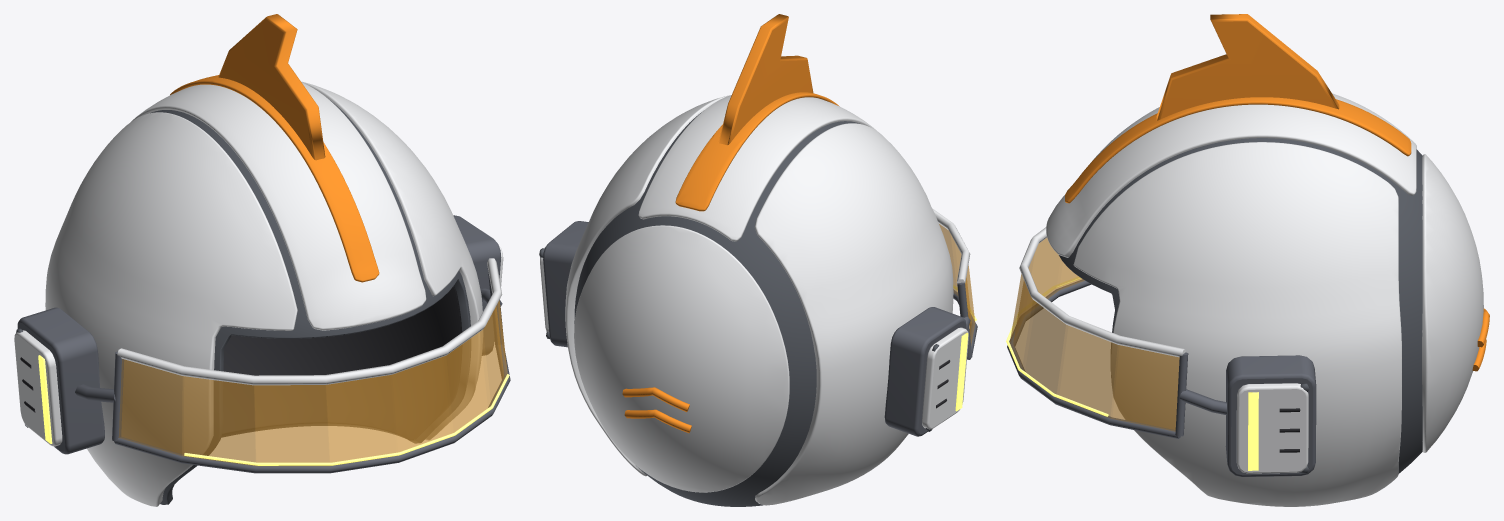
File: mech.glb
3 views of the same model, side by side, from view 1: azimuth 30°, elevation 25°; view 2: azimuth 150°, elevation 25°; view 3: azimuth 270°, elevation 25° (orthographic). The views are drawn at different scales.
Visible parts, largest first — view 1: mech_body, glass_mech_visor, glow_mech_orange, pulse_mech_strip_L; view 2: mech_body, glass_mech_visor, pulse_mech_strip_L; view 3: mech_body, glass_mech_visor, pulse_mech_strip_R, glow_mech_orange.
Part boxes in pixels (x1,y1,x2,y2): mech_body: (14,14,510,506); glass_mech_visor: (119,300,507,465); glow_mech_orange: (184,374,509,465); pulse_mech_strip_L: (38,355,52,443); mech_body: (539,14,977,506); glass_mech_visor: (939,224,975,344); pulse_mech_strip_L: (955,332,968,411); mech_body: (1007,14,1489,506); glass_mech_visor: (1010,238,1179,431); pulse_mech_strip_R: (1248,392,1258,470); glow_mech_orange: (1006,277,1108,416).
Size of the model in its own units: 1.7 by 1.71 by 1.66.
